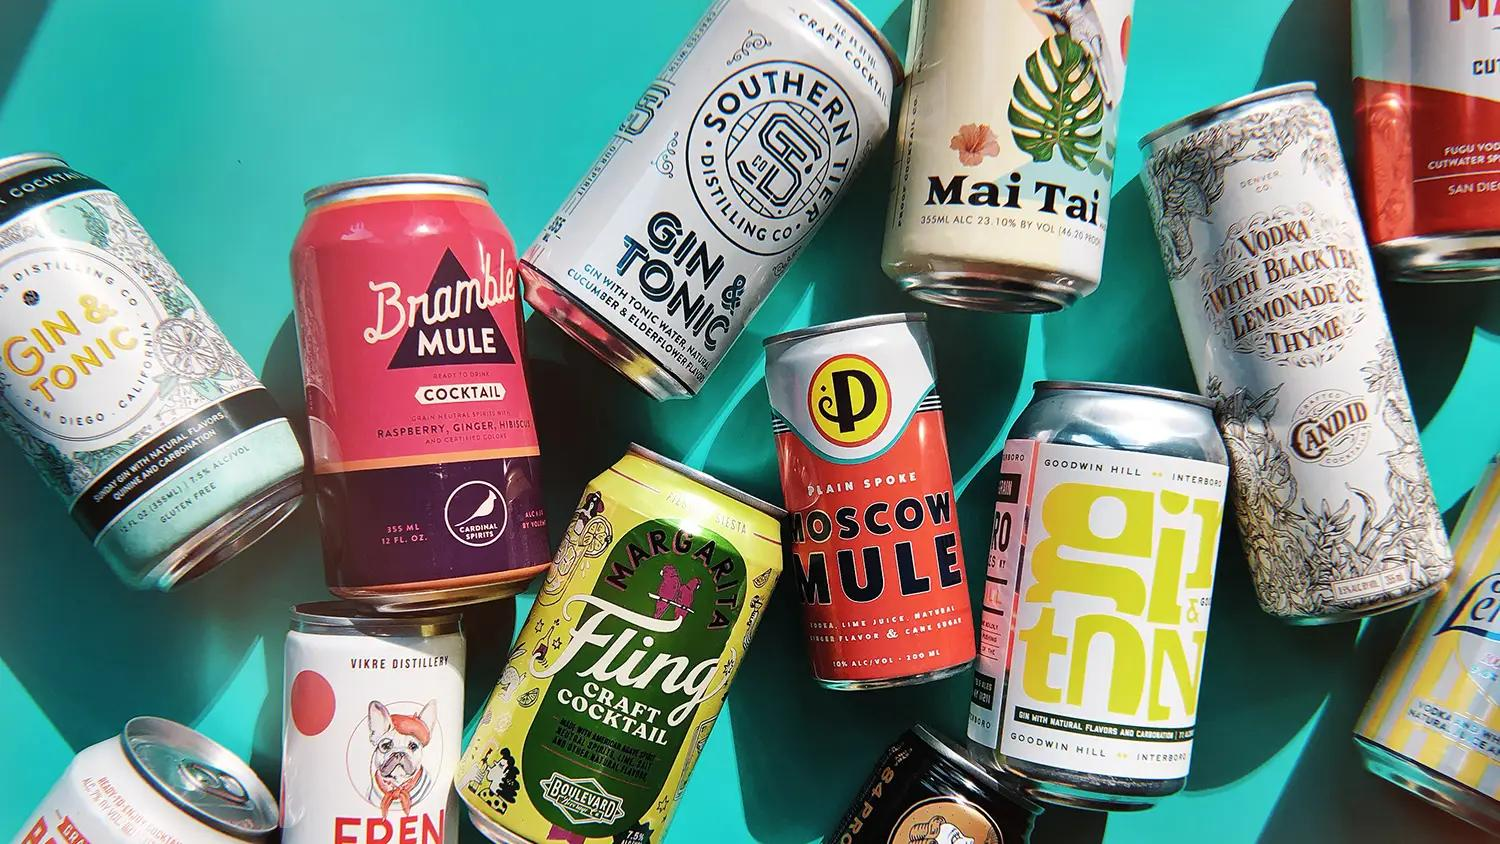can: (1143, 81, 1452, 624), (521, 0, 902, 399), (0, 153, 305, 590), (455, 444, 788, 843), (291, 174, 550, 606), (967, 380, 1228, 810), (766, 314, 981, 691), (882, 0, 1132, 313), (280, 599, 512, 843), (1355, 454, 1499, 835), (1351, 0, 1499, 290), (12, 716, 279, 843), (823, 725, 1104, 843)
